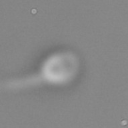normal: (1, 71, 42, 101)
